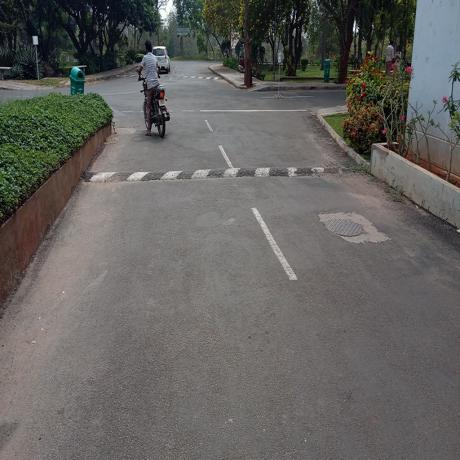Speed Bump: (82, 159, 368, 181)
